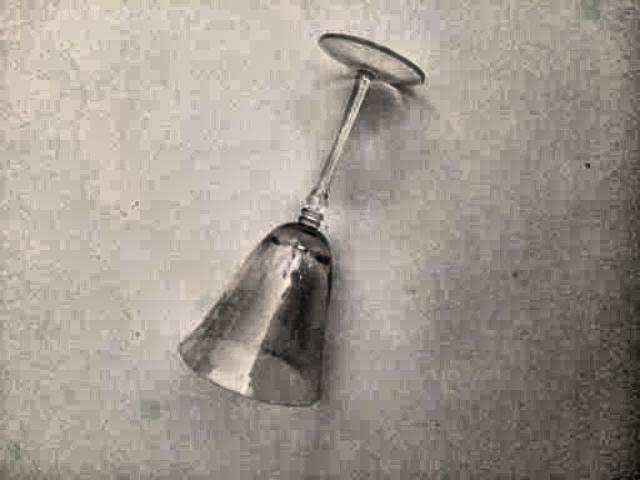Almennt: (148, 20, 450, 434)
